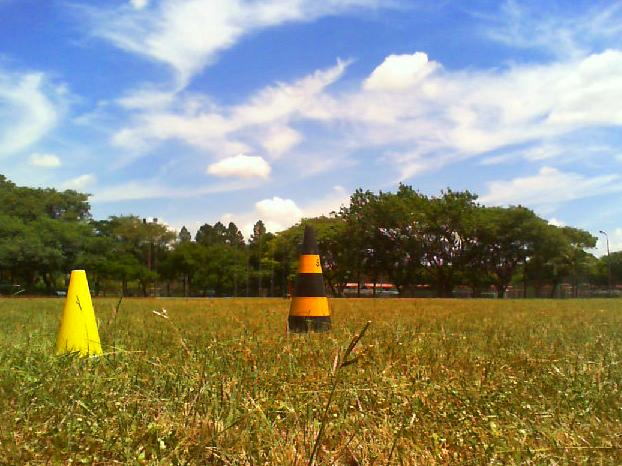0 cone: (286, 225, 333, 334), (52, 269, 104, 358)
